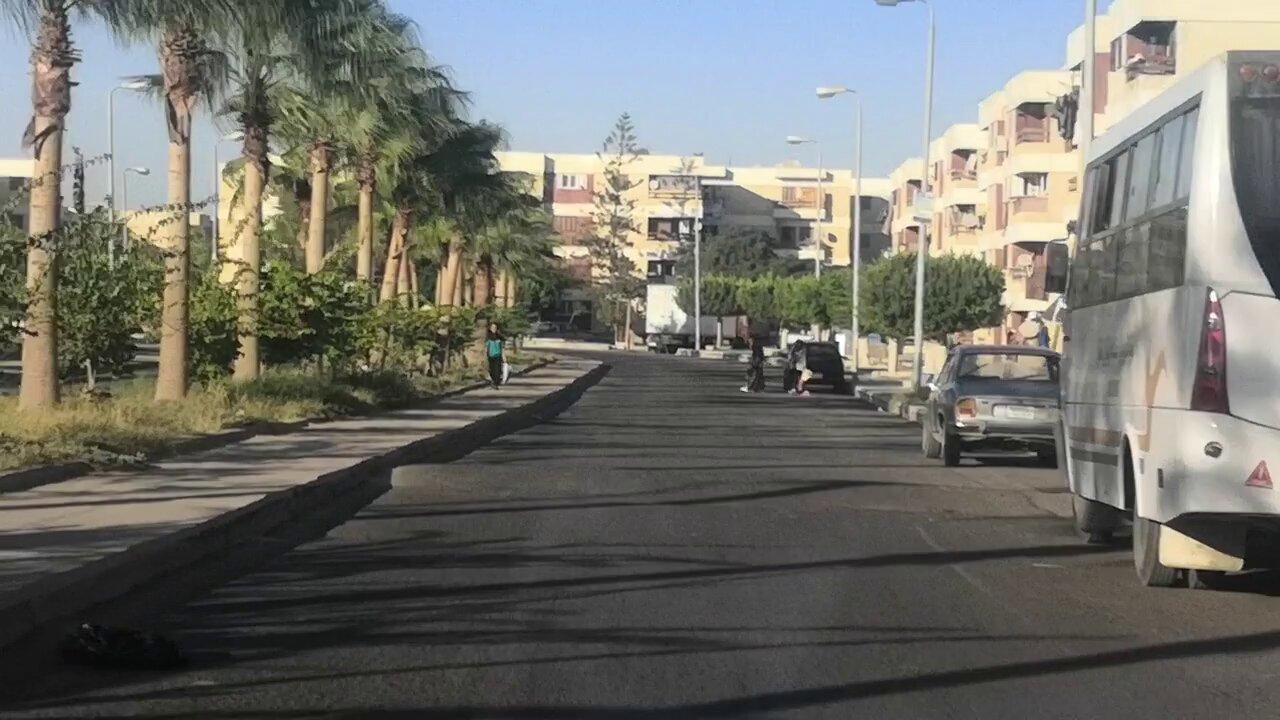Bump: (392, 452, 1100, 517)
